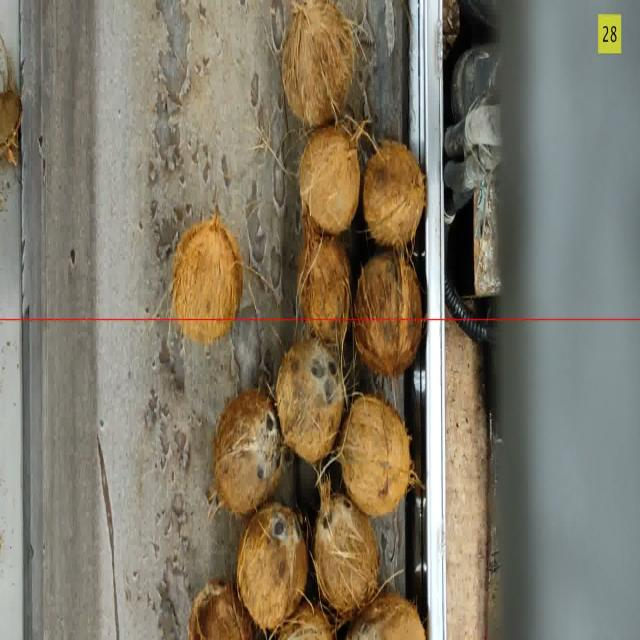Coconut-Conveyor-Belt: (342, 392, 411, 517), (284, 2, 352, 124), (236, 505, 302, 627), (356, 255, 422, 372), (174, 224, 240, 334), (312, 494, 376, 604), (277, 342, 337, 459), (364, 143, 426, 249), (218, 391, 276, 501), (301, 129, 360, 234), (299, 237, 350, 346), (193, 585, 250, 640), (355, 590, 416, 640), (278, 605, 334, 640)
